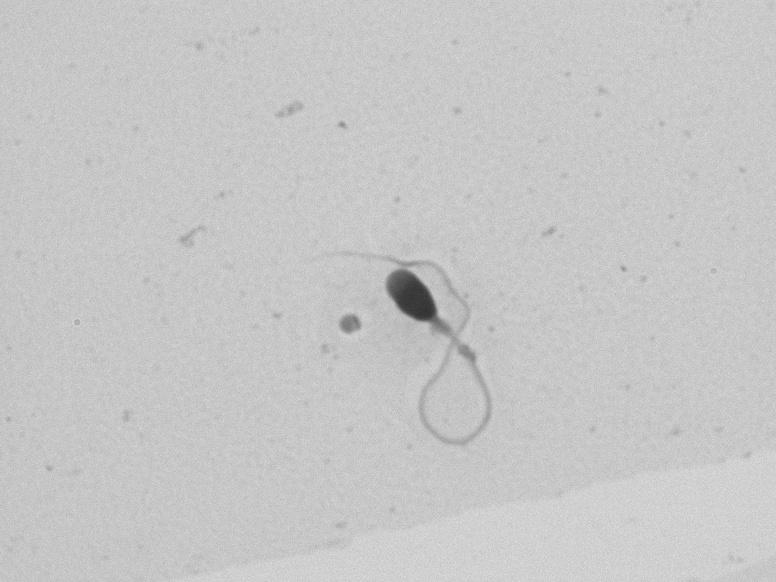Abnormal: (293, 205, 572, 466)
